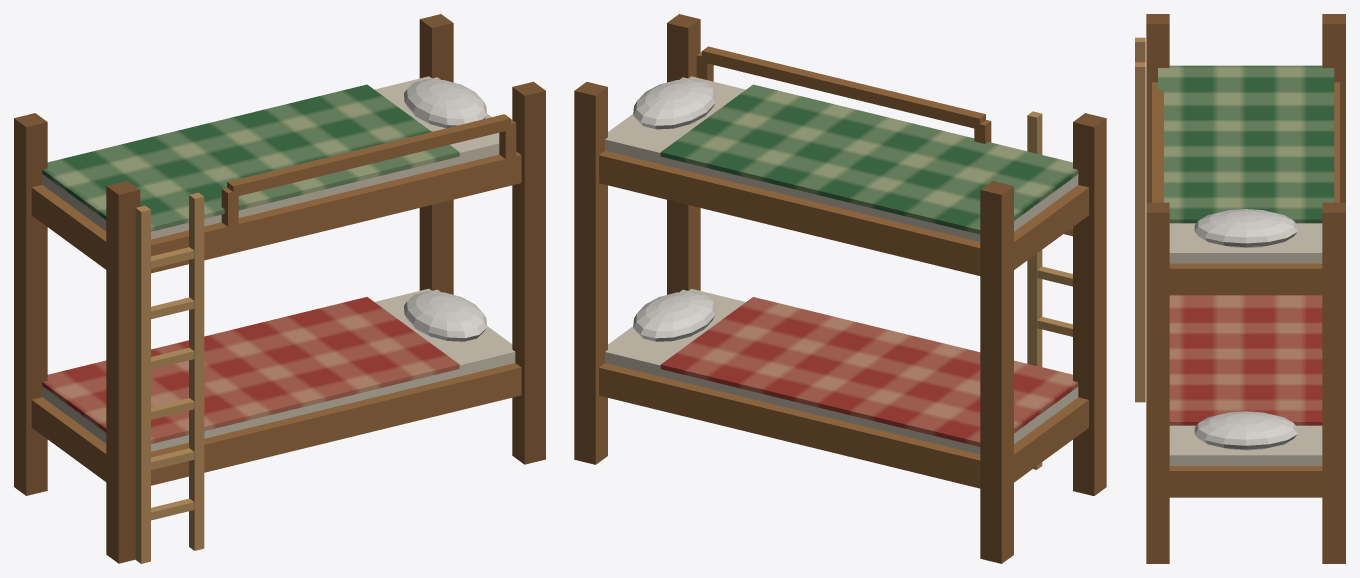
File: Hut_Bunk.fbx
3 renders of one model, left to right at view 1: azimuth 30°, elevation 25°; view 2: azimuth 150°, elevation 25°; view 3: azimuth 270°, elevation 25°, orthographic. The views are drawn at different scales.
Visible parts, largest first — view 1: Hut_Bunk; view 2: Hut_Bunk; view 3: Hut_Bunk.
Boxes of the visible parts, x1=… form: Hut_Bunk: x1=14, y1=14, x2=545, y2=563; Hut_Bunk: x1=574, y1=14, x2=1106, y2=563; Hut_Bunk: x1=1135, y1=14, x2=1345, y2=563.
Size of the model in its own units: 80 by 66 by 35.9.
